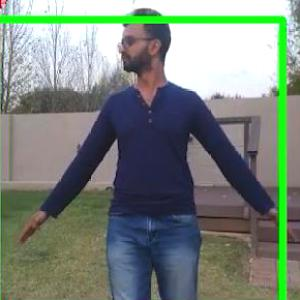land: (29, 21, 291, 299)
